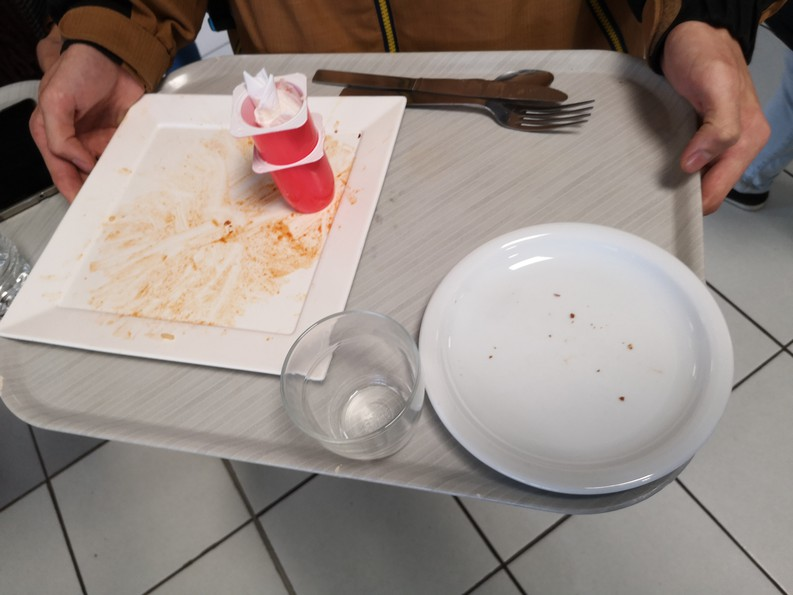cup: (270, 318, 429, 468)
cutlery: (313, 61, 600, 143)
trash: (235, 77, 343, 219)
